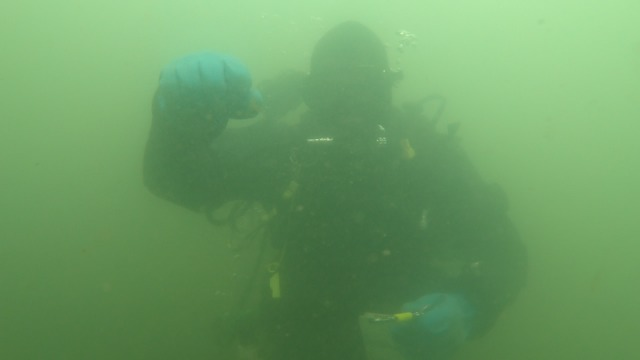Hand: (149, 48, 267, 147), (361, 285, 498, 355)
Head: (303, 26, 416, 178)
